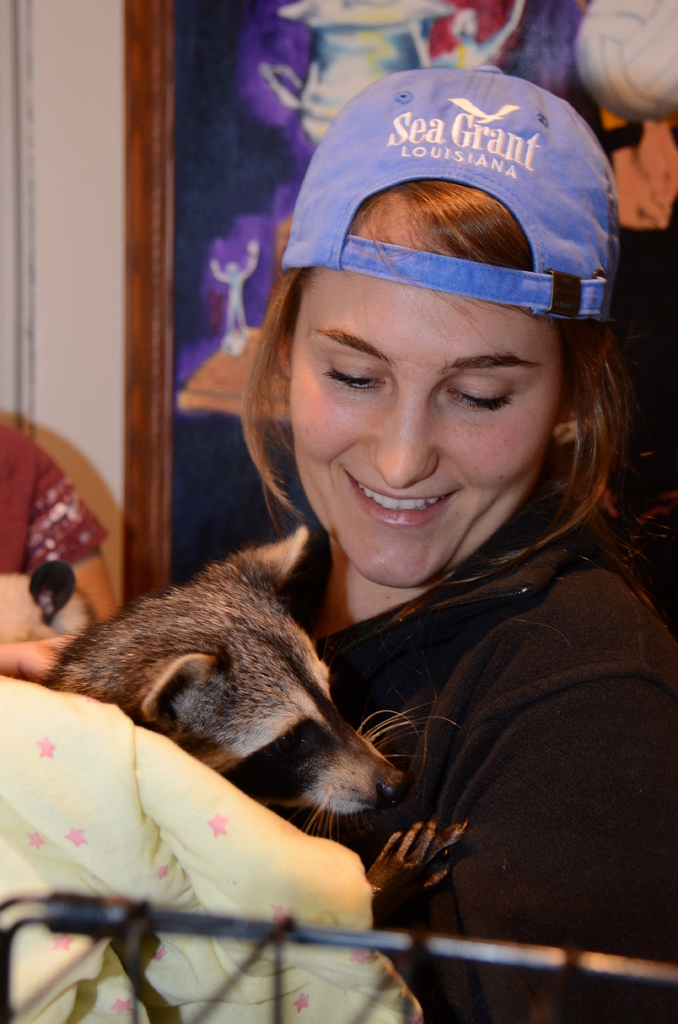raccoon: (45, 554, 412, 823)
